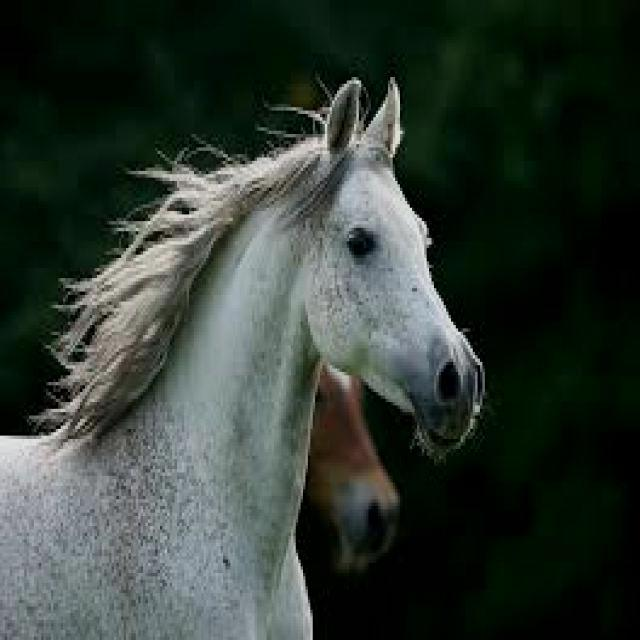Cheetah: (24, 49, 467, 494)
